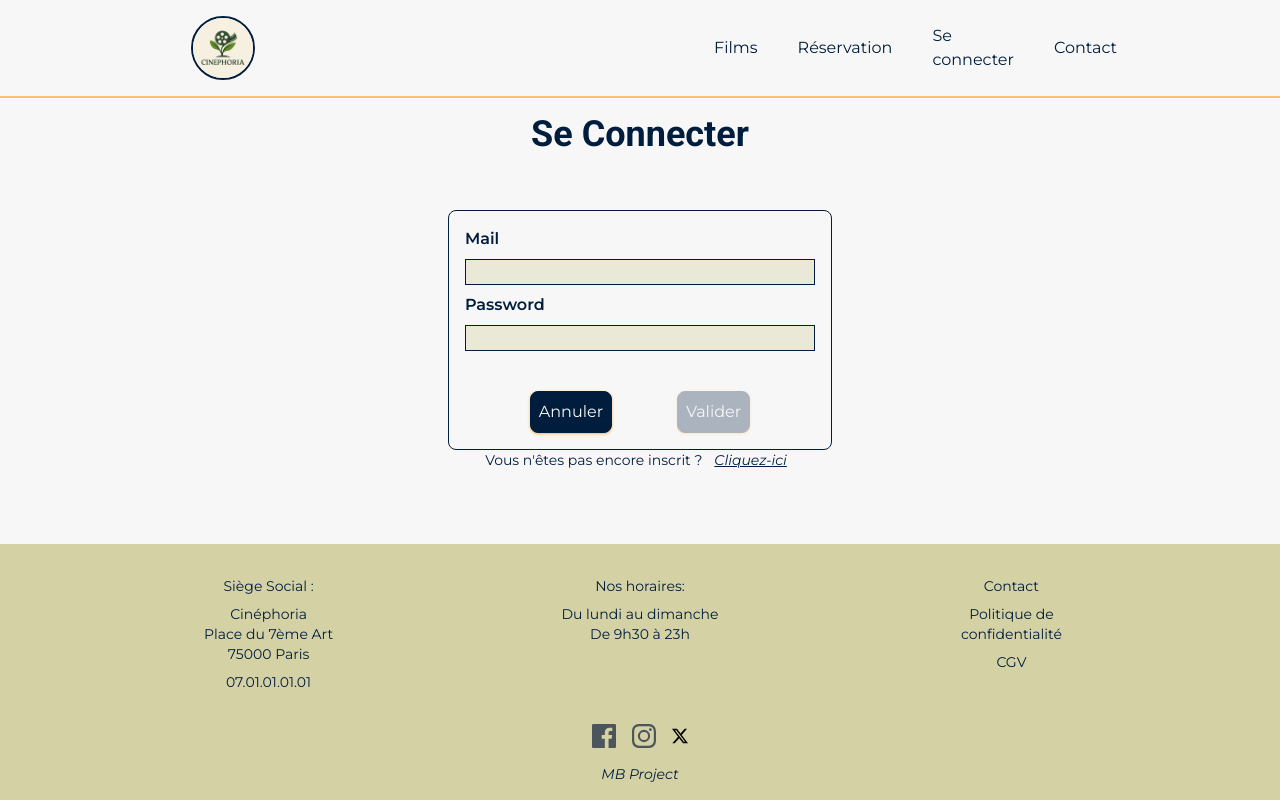
Test: Login Flow › should login successfully with valid credentials user
The image size is (1280, 800).
Type "test.user@gmail.com" into the field at (640, 272), box [465, 259, 815, 285]
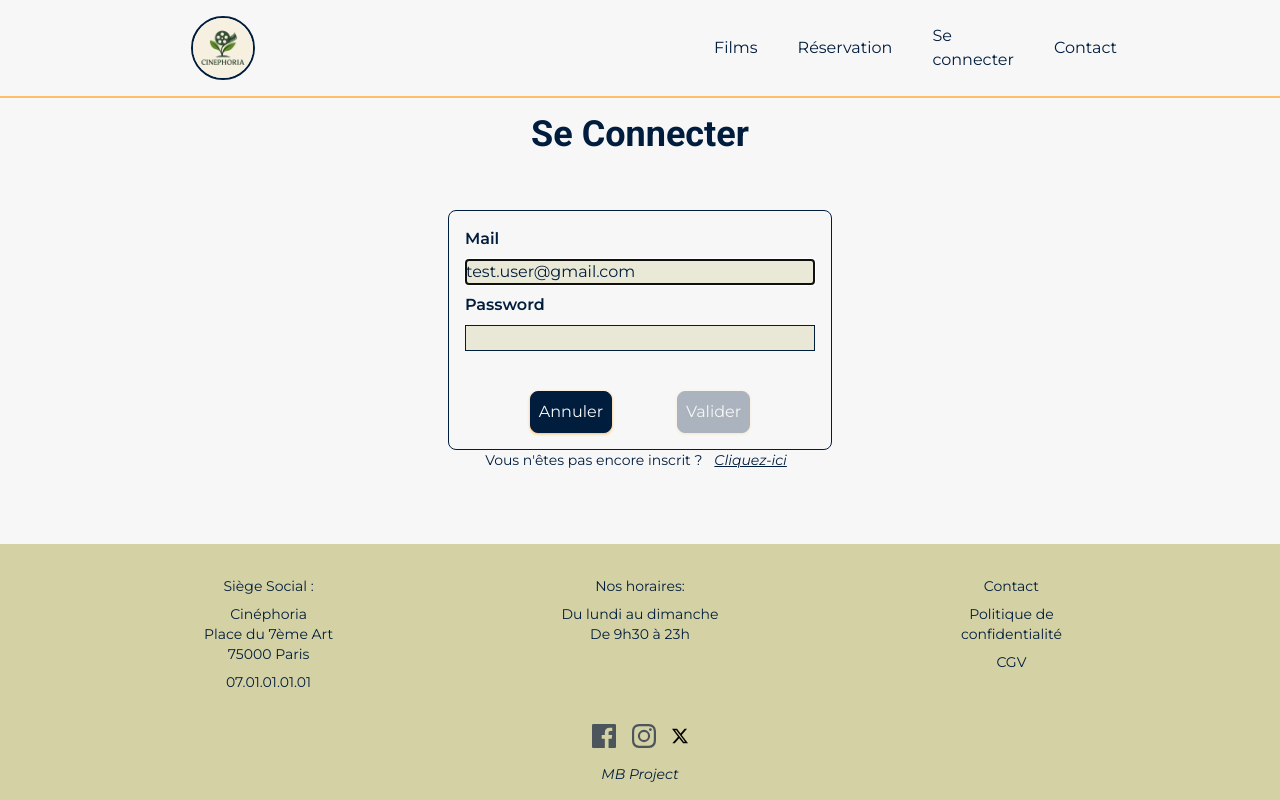
Type "Qsdfghjklm&2" into the password field at (640, 338), box [465, 325, 815, 351]
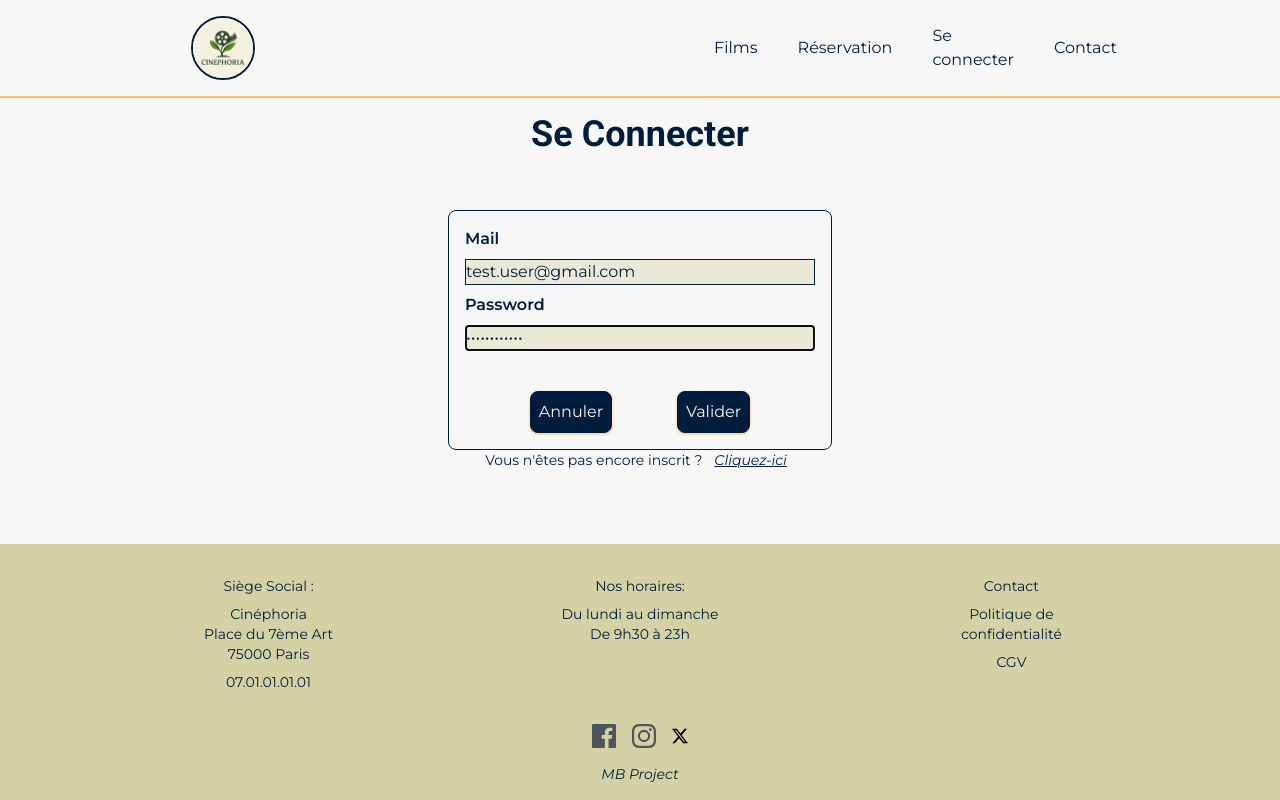
Click the button with test id "submit-form-btn" at (714, 412), box [677, 391, 750, 433]
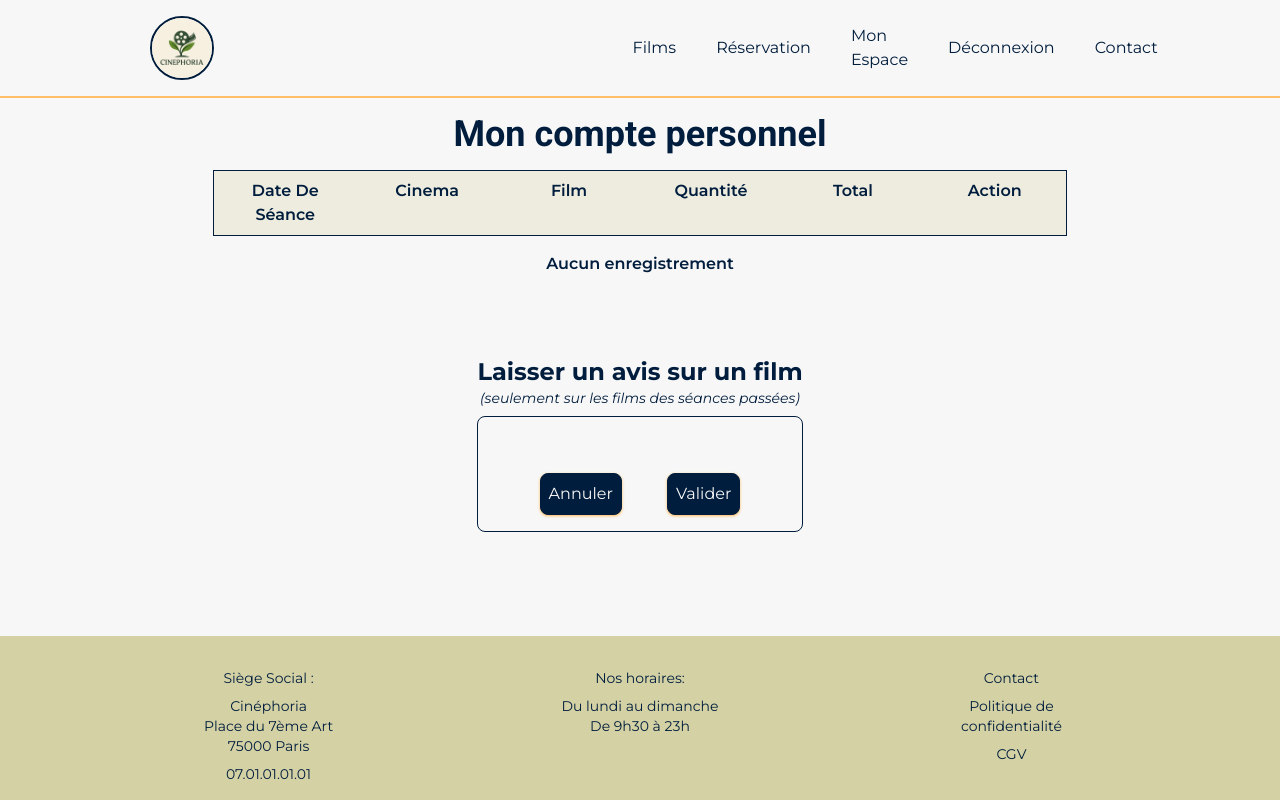
Check: the text with test id "navbar-logout" reads "Déconnexion", box [948, 38, 1055, 57]
Check: the text with test id "navbar-myspace" reads "Mon Espace", box [851, 26, 908, 69]
